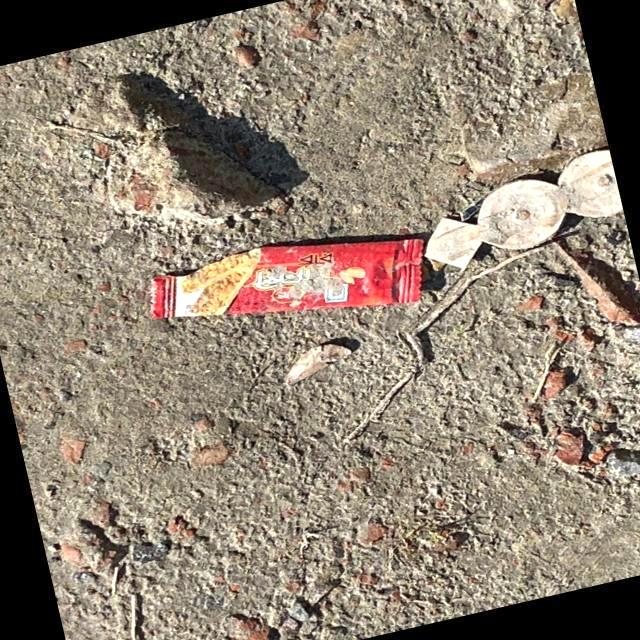packet: (152, 214, 434, 355)
